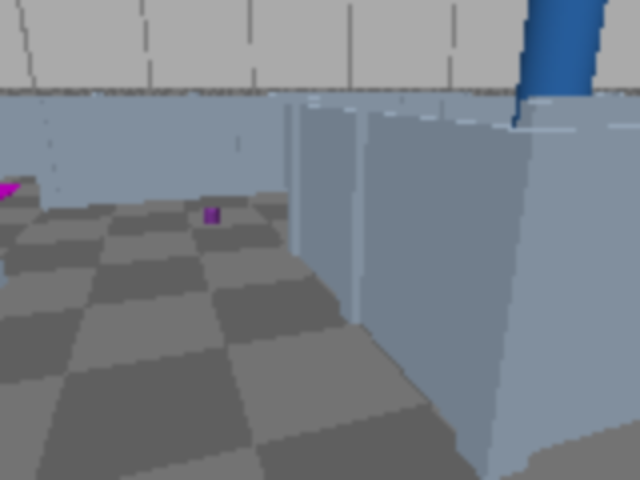goal_zone: (0, 184, 23, 204)
